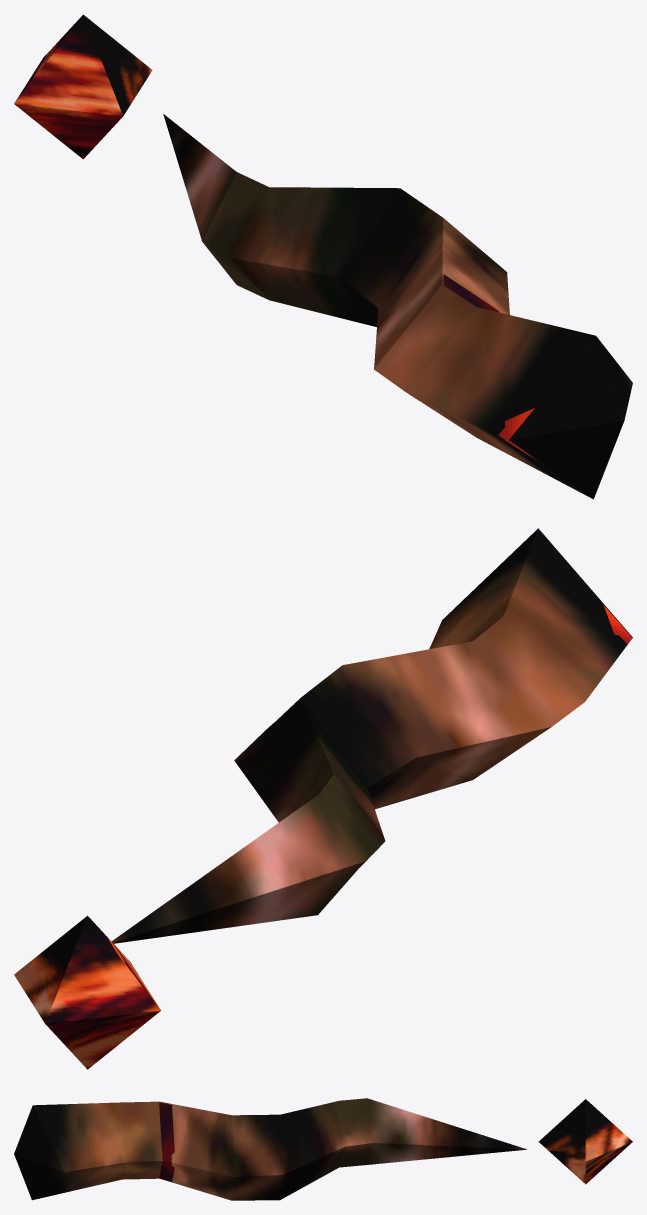
Rendered from tx_knight_dantichaofeng_keep.obj.
3 views of the same model, one above another, from view 1: azimuth 30°, elevation 25°; view 2: azimuth 150°, elevation 25°; view 3: azimuth 270°, elevation 25° (orthographic). The views are drawn at different scales.
Parts seen in each view (by area): view 1: Line02#1, Line01#2; view 2: Line02#1, Line01#2; view 3: Line02#1, Line01#2.
Boxes of the visible parts, x1,y1,x2,y2 form: Line02#1: [163, 114, 632, 499]; Line01#2: [14, 14, 537, 460]; Line02#1: [112, 528, 632, 943]; Line01#2: [14, 605, 632, 1069]; Line02#1: [14, 1098, 527, 1200]; Line01#2: [159, 1099, 632, 1184].
Bounding box in the file's own units: 12.54 × 9.75 × 57.04.
Materials: 2 (2 with a texture image).
